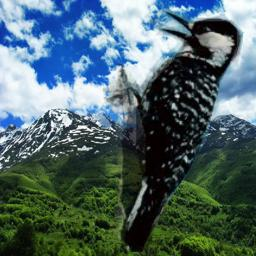Woodpecker: (103, 7, 247, 252)
